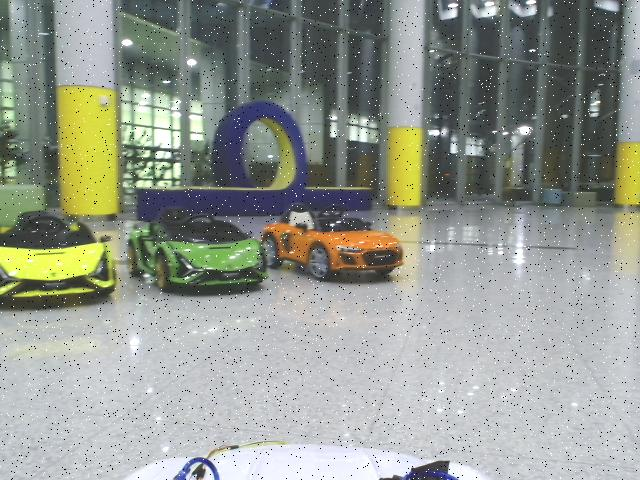car: (127, 209, 268, 290), (261, 201, 404, 279), (1, 210, 117, 303)
